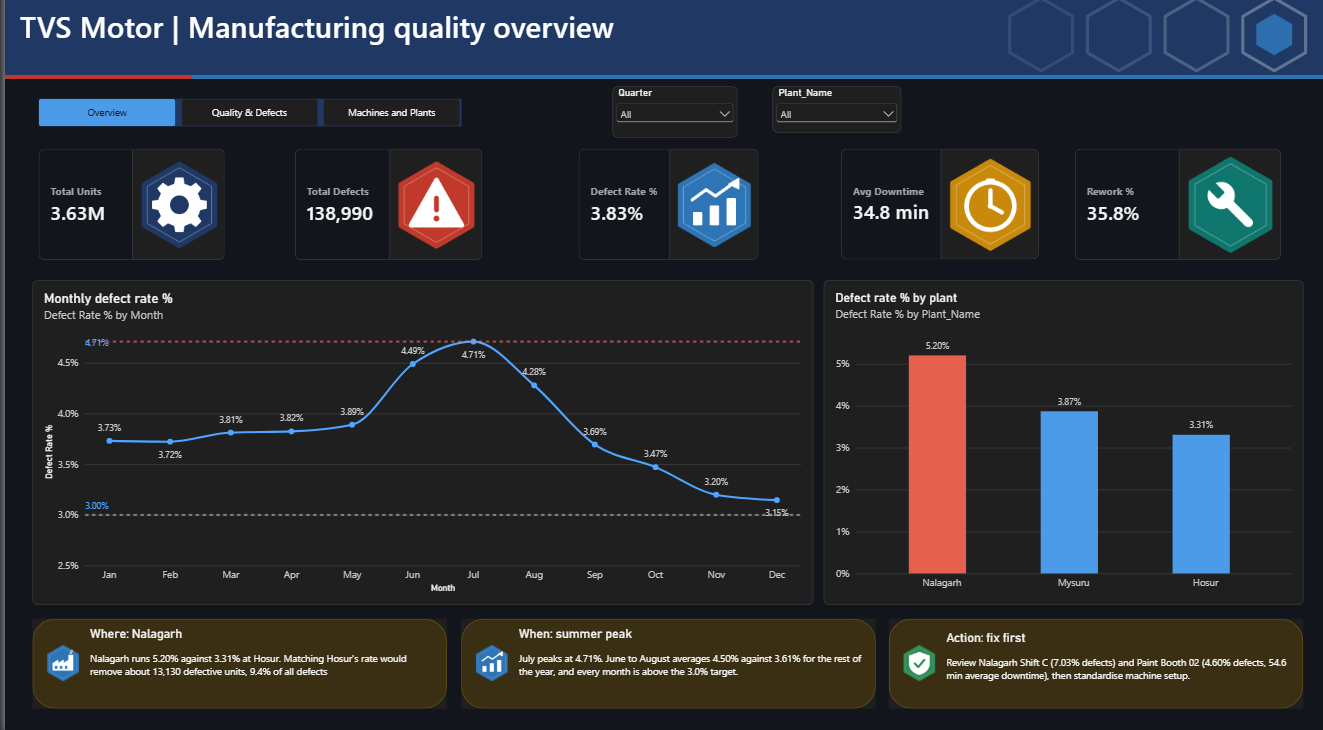

Layout of this report page (visuals, bound fields, positions):
{"tool":"powerbi","page":{"name":"Overview","canvas":[1920,1080],"ordinal":0},"visuals":[{"type":"image","box":[0,0,1920.1,128.5],"z":0,"group":"g1"},{"type":"cardVisual","fields":{"Data":["Calendar.Total Units Text"]},"box":[48.9,229.8,269.6,161.4],"z":0},{"type":"shape","box":[40,910,600,130],"z":0,"group":"g2"},{"type":"shape","box":[1280,910,600,130],"z":0,"group":"g4"},{"type":"textbox","box":[21.7,22.8,1140,57.1],"z":1000,"group":"g1"},{"type":"cardVisual","fields":{"Data":["Calendar.Total Defects Text"]},"box":[419.8,229.8,271.5,161.4],"z":1000},{"type":"textbox","title":"Action: fix first","box":[1364,926,504,110],"z":1000,"group":"g4"},{"type":"image","box":[56,947,56,56],"z":1000,"group":"g2"},{"type":"cardVisual","title":"Defect Rate%","fields":{"Data":["Calendar.Defect Rate %"]},"box":[830.6,229.8,260.5,161.4],"z":2000},{"type":"textbox","title":"Where: Nalagarh","box":[124,920,504,110],"z":2000,"group":"g2"},{"type":"image","box":[1296,947,56,56],"z":2000,"group":"g4"},{"type":"cardVisual","fields":{"Data":["Calendar.Avg Downtime Text"]},"box":[1210,230,286,160],"z":3000},{"type":"cardVisual","fields":{"Data":["Calendar.Rework %"]},"box":[1549.1,229.8,299,161.4],"z":4000},{"type":"lineChart","title":"Monthly defect rate %","fields":{"Category":["Calendar.Month"],"Y":["Calendar.Defect Rate %"]},"box":[40,420,1130,470],"z":5000},{"type":"columnChart","title":"Defect rate % by plant","fields":{"Category":["plants.Plant_Name"],"Y":["Calendar.Defect Rate %"]},"box":[1186,420,694,470],"z":6000},{"type":"group","id":"g1","title":"Group 1","box":[0,0,1920.1,128.5],"z":7000},{"type":"pageNavigator","box":[48,158,612,40],"z":8000},{"type":"slicer","fields":{"Values":["Calendar.Quarter"]},"box":[879.5,139.3,181,74.2],"z":9000},{"type":"slicer","fields":{"Values":["plants.Plant_Name"]},"box":[1111.1,139.3,186.4,67],"z":10000},{"type":"group","id":"g2","title":"Group 2","box":[40,910,600,130],"z":11000},{"type":"group","id":"g3","title":"Group 3","box":[660,910,600,130],"z":12000},{"type":"shape","box":[660,910,600,130],"z":13000,"group":"g3"},{"type":"group","id":"g4","title":"Group 4","box":[1280,910,600,130],"z":13000},{"type":"image","box":[676,947,56,56],"z":14002,"group":"g3"},{"type":"textbox","title":"When: summer peak","box":[744,920,504,110],"z":14502,"group":"g3"}]}

Visuals, with their boxes in screenshot pixels (x1, y1, x2, y2), scaled from the page's 1920x1080 canvas onto the 1323x730 screenshot:
image: x1=0, y1=0, x2=1322, y2=87
cardVisual - Calendar.Total Units Text: x1=34, y1=155, x2=219, y2=264
shape: x1=28, y1=615, x2=441, y2=703
shape: x1=882, y1=615, x2=1295, y2=703
textbox: x1=15, y1=15, x2=800, y2=54
cardVisual - Calendar.Total Defects Text: x1=289, y1=155, x2=476, y2=264
"Action: fix first" textbox: x1=940, y1=626, x2=1287, y2=700
image: x1=39, y1=640, x2=77, y2=678
"Defect Rate%" cardVisual: x1=572, y1=155, x2=752, y2=264
"Where: Nalagarh" textbox: x1=85, y1=622, x2=433, y2=696
image: x1=893, y1=640, x2=932, y2=678
cardVisual - Calendar.Avg Downtime Text: x1=834, y1=155, x2=1031, y2=264
cardVisual - Calendar.Rework %: x1=1067, y1=155, x2=1273, y2=264
"Monthly defect rate %" lineChart: x1=28, y1=284, x2=806, y2=602
"Defect rate % by plant" columnChart: x1=817, y1=284, x2=1295, y2=602
"Group 1" group: x1=0, y1=0, x2=1322, y2=87
pageNavigator: x1=33, y1=107, x2=455, y2=134
slicer - Calendar.Quarter: x1=606, y1=94, x2=731, y2=144
slicer - plants.Plant_Name: x1=766, y1=94, x2=894, y2=139
"Group 2" group: x1=28, y1=615, x2=441, y2=703
"Group 3" group: x1=455, y1=615, x2=868, y2=703
shape: x1=455, y1=615, x2=868, y2=703
"Group 4" group: x1=882, y1=615, x2=1295, y2=703
image: x1=466, y1=640, x2=504, y2=678
"When: summer peak" textbox: x1=513, y1=622, x2=860, y2=696
